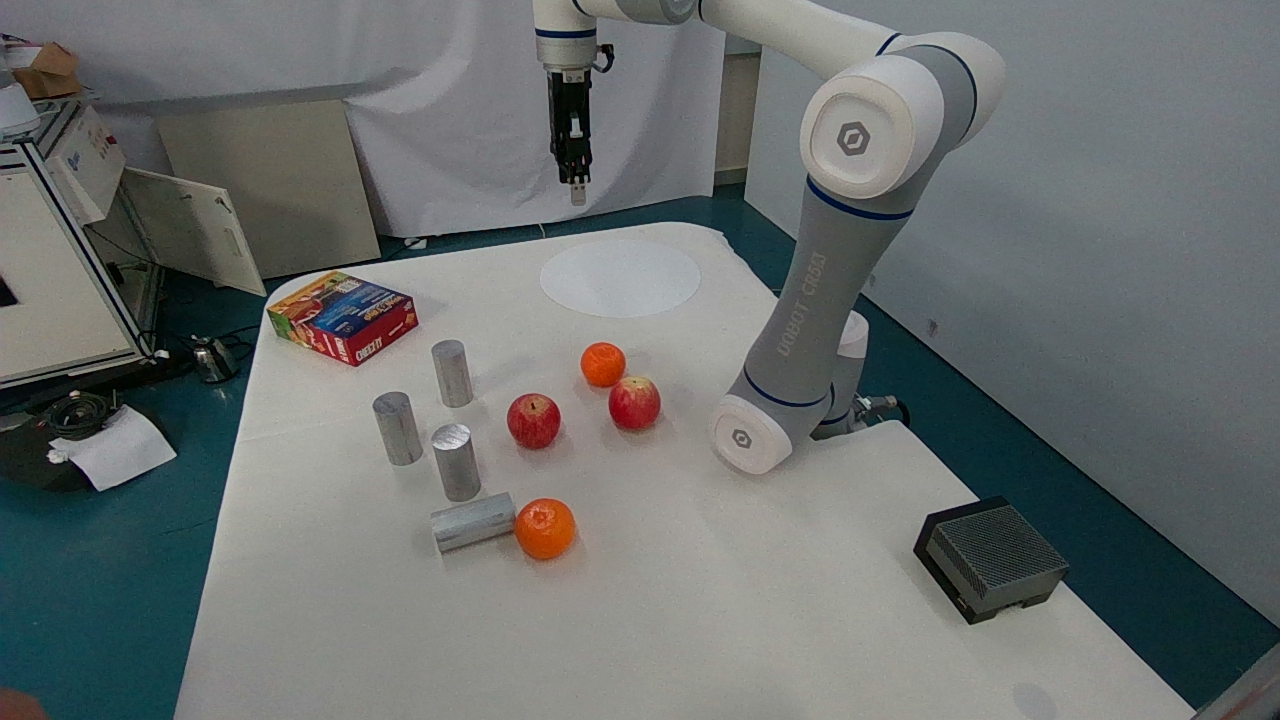apple: (598, 368, 670, 446), (495, 389, 570, 461)
metal rod: (409, 487, 527, 561), (361, 375, 428, 471), (422, 413, 487, 505), (417, 320, 475, 414)
orange: (506, 493, 583, 576), (573, 334, 633, 398)
